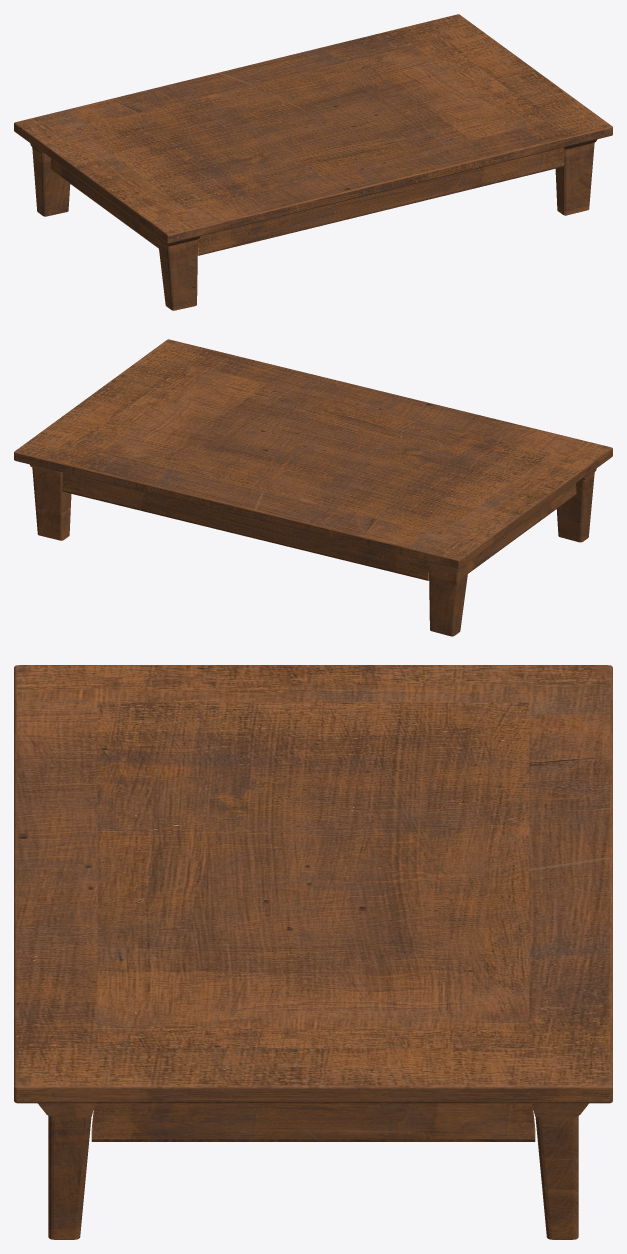
The model's file is table.glb.
3 views of the same model, one above another, from view 1: azimuth 30°, elevation 25°; view 2: azimuth 150°, elevation 25°; view 3: azimuth 270°, elevation 25° (orthographic). The views are drawn at different scales.
Visible parts, largest first — view 1: top, body, feet; view 2: top, body, feet; view 3: top, body, feet.
Boxes of the visible parts, x1,y1,x2,y2 form: top: (14,14,612,243); body: (50,147,564,255); feet: (30,139,597,310); top: (14,339,612,568); body: (62,472,576,580); feet: (29,464,596,636); top: (14,665,612,1103); body: (91,1103,535,1141); feet: (38,1103,588,1239).
Bounding box in the file's own units: 2 × 0.3706 × 1.2.
Materials: 1 (1 with a texture image).
